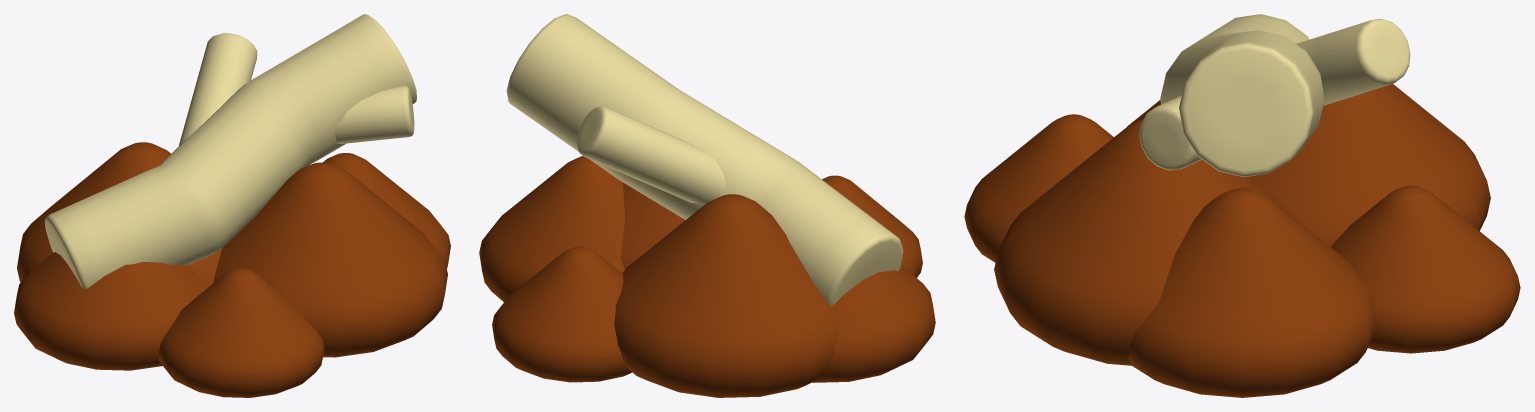
File: LastLuna_Model_Node_Dirt_Driftwoods.fbx
3 views of the same model, side by side, from view 1: azimuth 30°, elevation 25°; view 2: azimuth 150°, elevation 25°; view 3: azimuth 270°, elevation 25° (orthographic). The views are drawn at different scales.
Parts seen in each view (by area): view 1: Driftwood_Log001, Dirt_Floor004, Dirt_Floor001, Dirt_Floor006, Dirt_Floor003, Dirt_Floor002; view 2: Driftwood_Log001, Dirt_Floor003, Dirt_Floor005, Dirt_Floor002, Dirt_Floor001, Dirt_Floor004, Dirt_Floor006; view 3: Dirt_Floor002, Dirt_Floor004, Driftwood_Log001, Dirt_Floor005, Dirt_Floor003, Dirt_Floor006.
Part boxes in pixels (x1,y1,x2,y2): Driftwood_Log001: (44,14,416,288); Dirt_Floor004: (213,162,447,357); Dirt_Floor001: (14,252,208,370); Dirt_Floor006: (158,268,324,397); Dirt_Floor003: (17,142,222,286); Dirt_Floor002: (323,153,450,268); Driftwood_Log001: (506,14,903,305); Dirt_Floor003: (614,194,838,397); Dirt_Floor005: (492,246,631,382); Dirt_Floor002: (479,156,624,301); Dirt_Floor001: (812,265,935,382); Dirt_Floor004: (621,182,685,269); Dirt_Floor006: (822,175,922,277); Dirt_Floor002: (1128,188,1375,397); Dirt_Floor004: (994,119,1295,365); Driftwood_Log001: (1139,14,1410,177); Dirt_Floor005: (1330,185,1520,353); Dirt_Floor003: (1251,84,1490,246); Dirt_Floor006: (964,114,1113,262).
Size of the model in its own units: 35.64 by 21.13 by 32.45.
